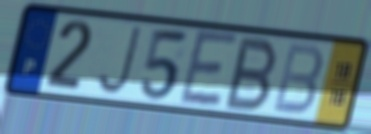2: (43, 18, 96, 94)
5: (137, 27, 190, 103)
B: (221, 35, 280, 114), (270, 41, 325, 118)
E: (176, 27, 241, 109)
J: (95, 24, 144, 97)
